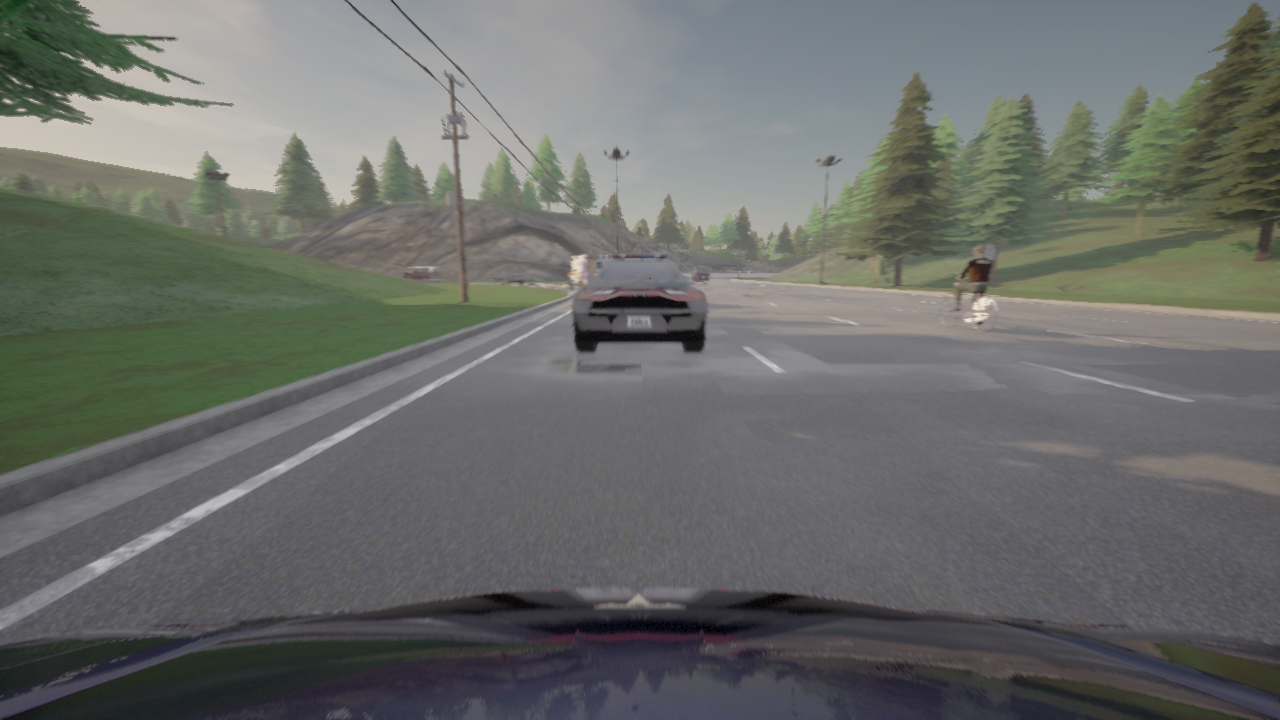cyclist: (0, 588, 1279, 719), (572, 254, 707, 352), (940, 277, 997, 333), (566, 254, 614, 289), (403, 266, 442, 282), (490, 272, 524, 284), (691, 267, 710, 283)
